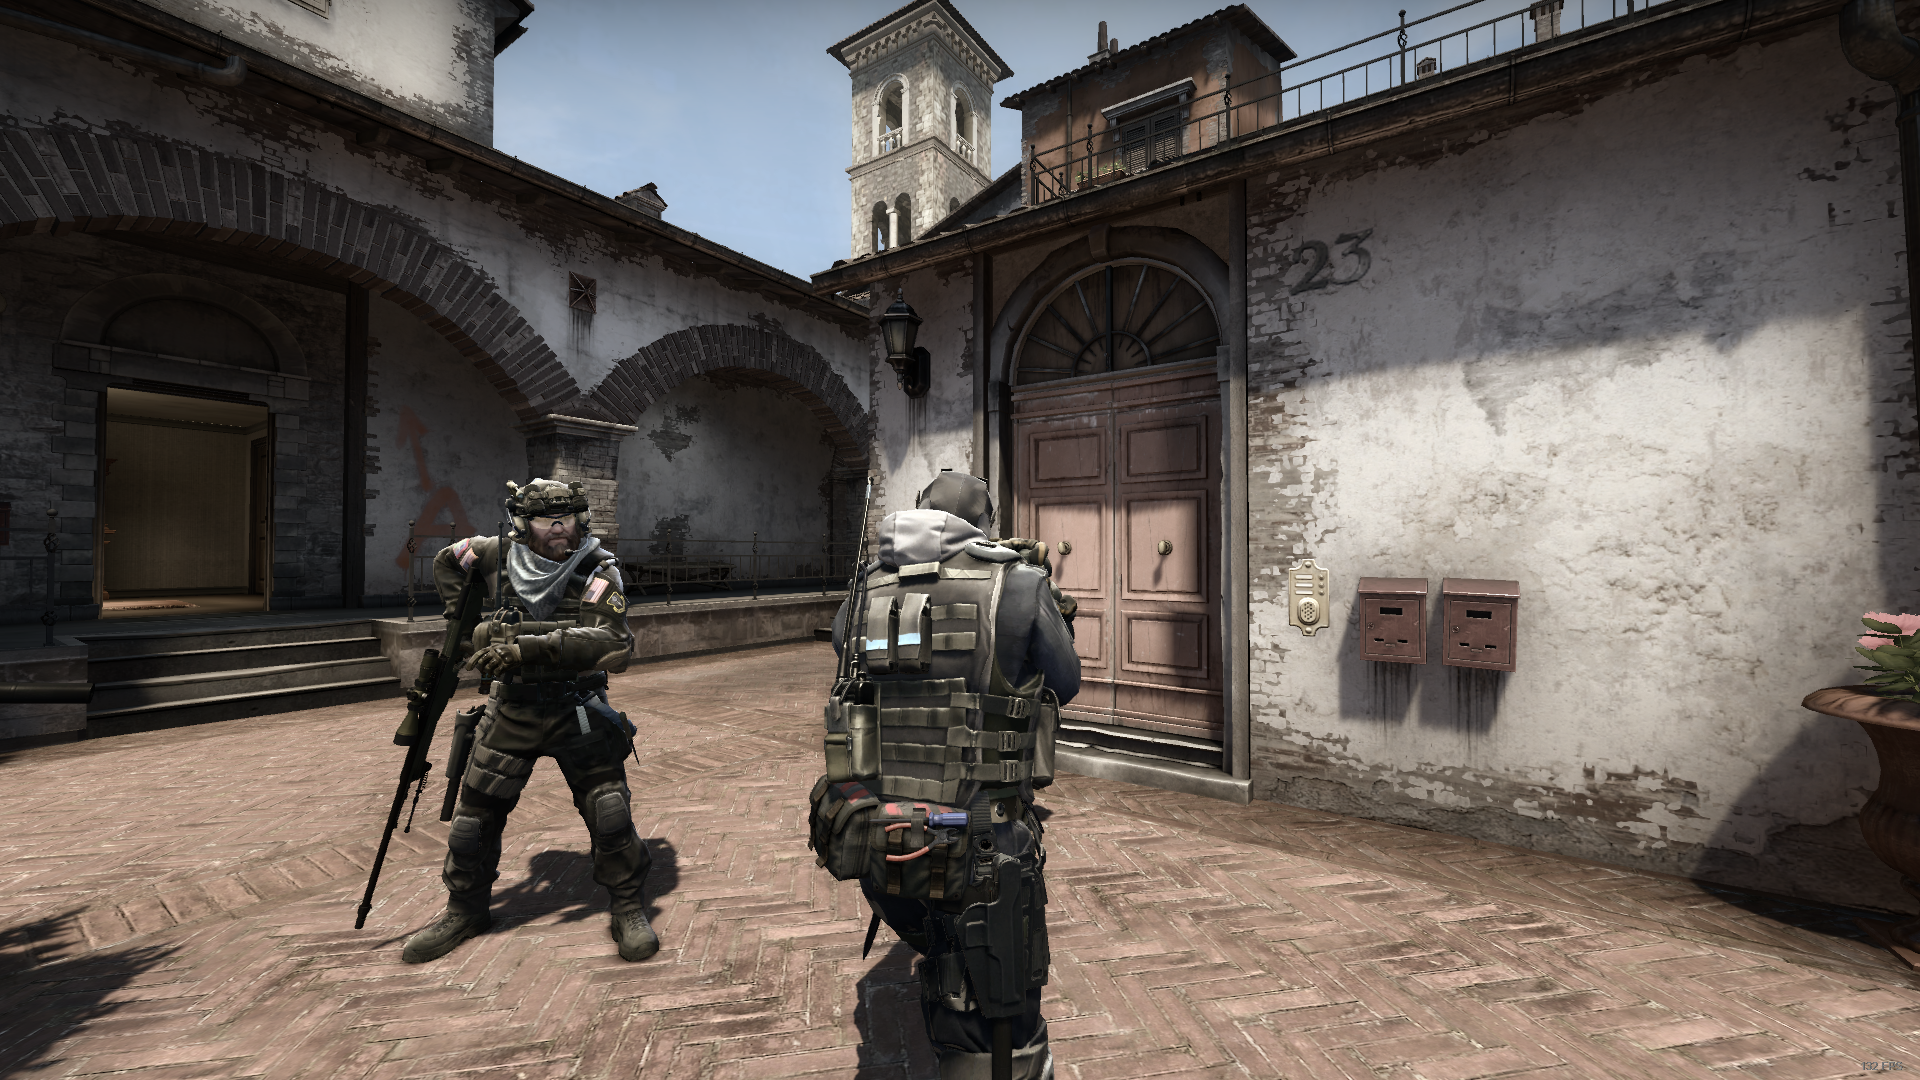ct: (807, 471, 1080, 1080)
